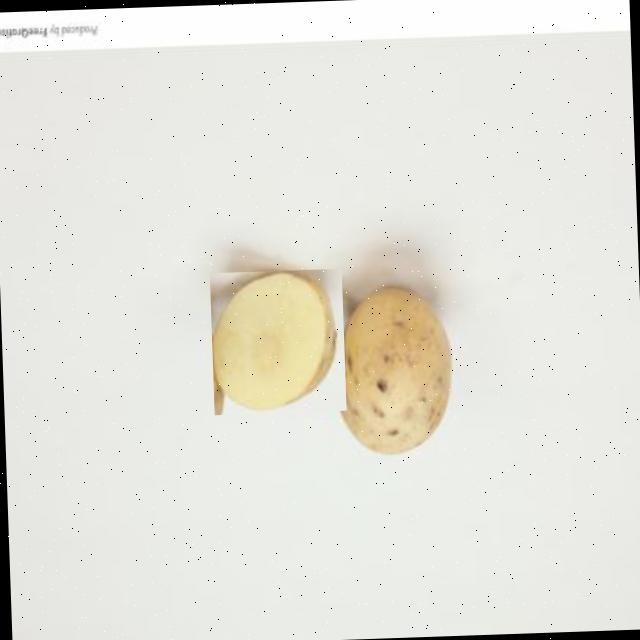Potato: (334, 258, 454, 463), (208, 267, 345, 414)
